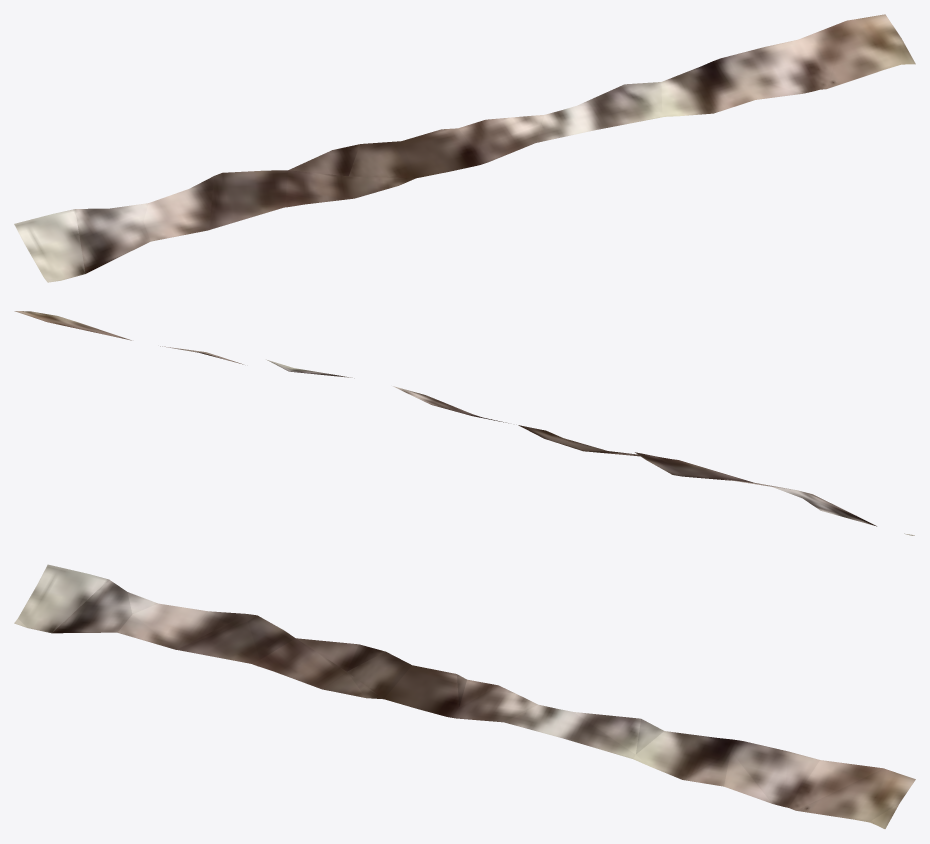
3 views of the same model, one above another, from view 1: azimuth 30°, elevation 25°; view 2: azimuth 150°, elevation 25°; view 3: azimuth 330°, elevation 25° (orthographic).
Size of the model in its own units: 1.67 by 0.0654 by 0.1144.
Materials: 1 (1 with a texture image).
